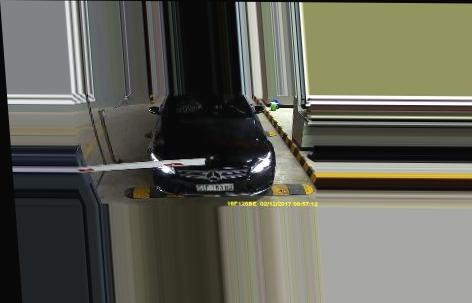License_Plate: (195, 181, 235, 196)
